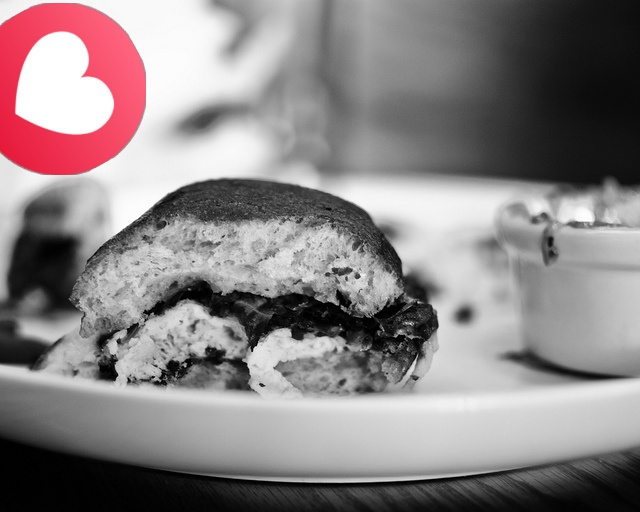love: (0, 3, 146, 175)
